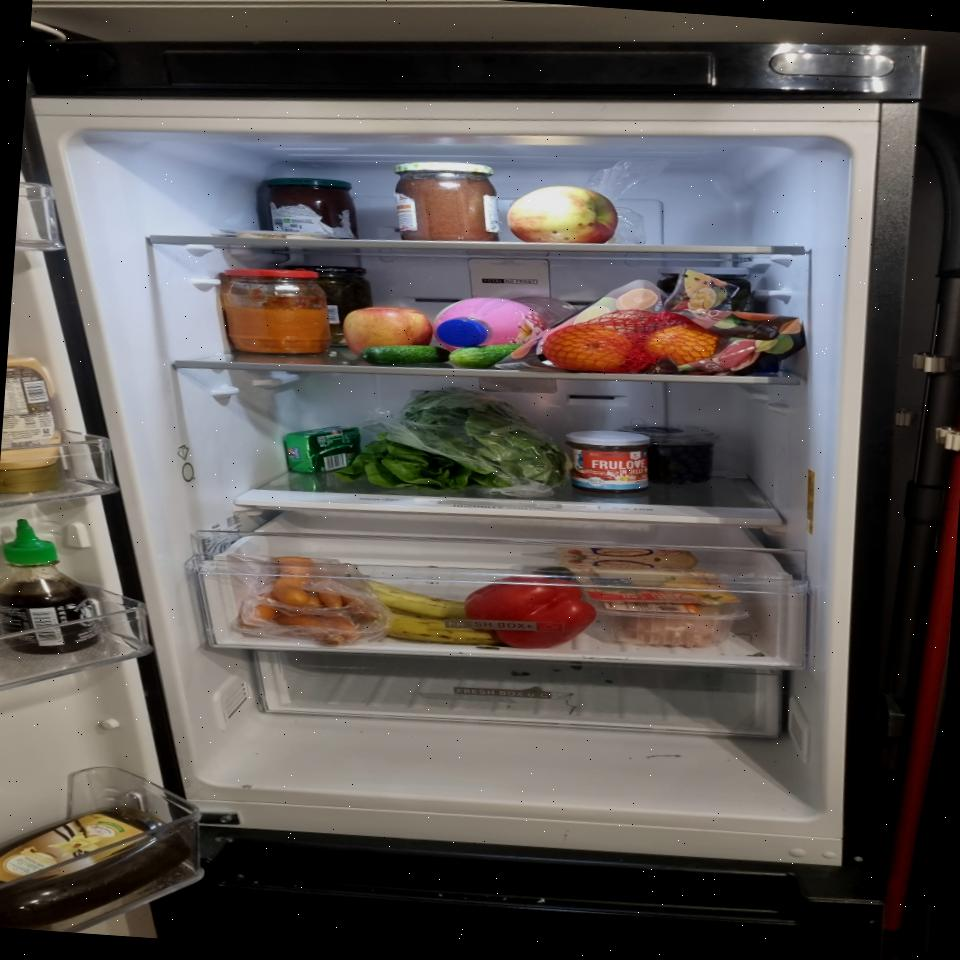Carne pollo: (586, 596, 750, 652)
Lechuga/Endivia: (362, 390, 574, 504)
Mantequilla: (280, 421, 362, 478)
Manzana: (508, 184, 620, 248), (344, 306, 432, 356)
Pepino: (364, 336, 516, 371)
Plátano: (364, 578, 504, 648)
Queso: (555, 543, 744, 612)
Zanahoria: (244, 552, 384, 648)
